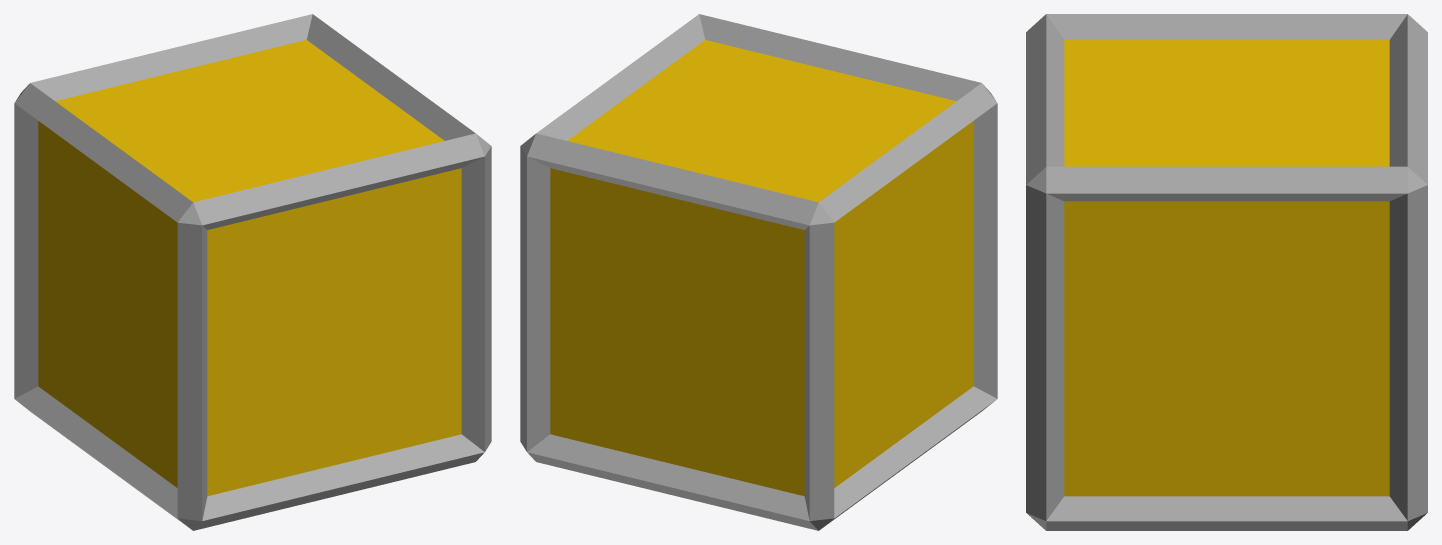
File: coincrate.glb
The picture shows the model from 3 angles, left to right: view 1: azimuth 30°, elevation 25°; view 2: azimuth 150°, elevation 25°; view 3: azimuth 270°, elevation 25°; orthographic projection. The views are drawn at different scales.
Parts seen in each view (by area): view 1: CoinCrate; view 2: CoinCrate; view 3: CoinCrate.
Part boxes in pixels (box(x1,y1,x2,y2)): CoinCrate: box(14, 14, 491, 530); CoinCrate: box(520, 14, 997, 530); CoinCrate: box(1026, 14, 1427, 530).
Bounding box in the file's own units: 2 × 2 × 2.
